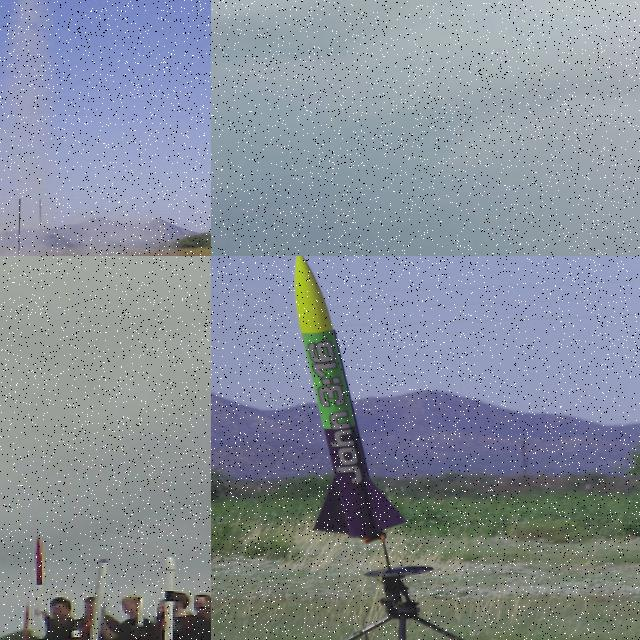Rocket: (288, 256, 408, 546), (72, 557, 112, 640), (30, 532, 50, 640), (160, 555, 176, 640), (11, 601, 33, 640), (135, 595, 145, 640)
